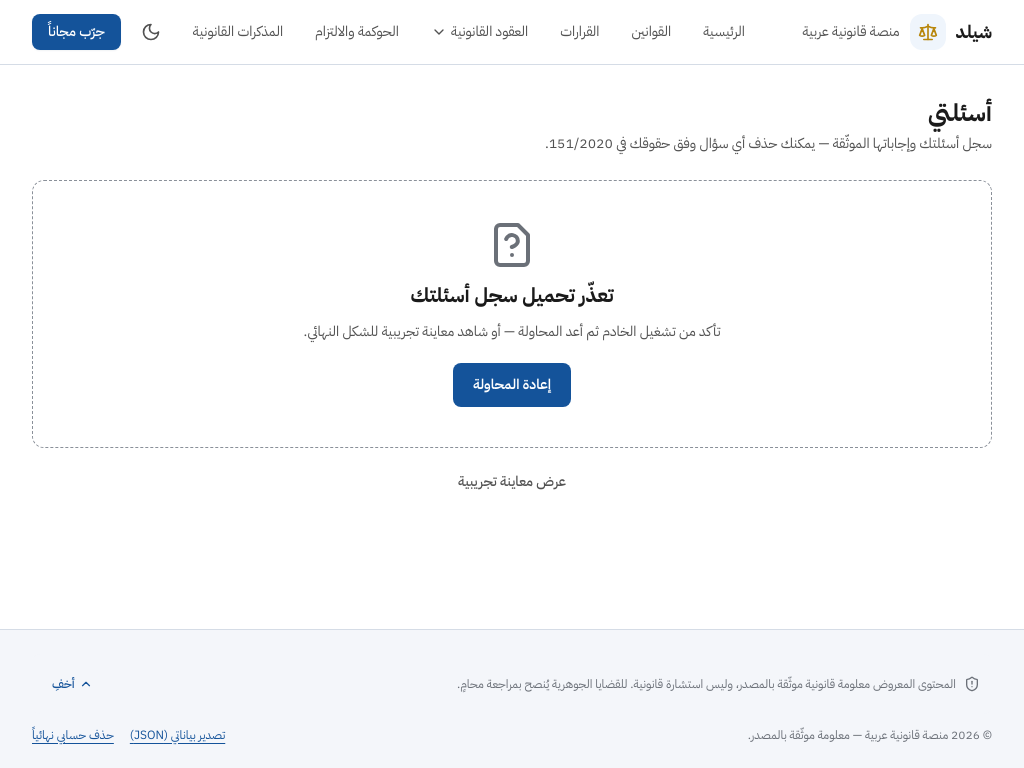
it: MyQuestionsPage › يعرض معاينة تجريبية صريحة عند فشل الاتصال (بانر تحذيري + بيانات تجريبية)
Click the button "عرض معاينة تجريبية" at (512, 482), box x1=442 y1=464 x2=582 y2=500
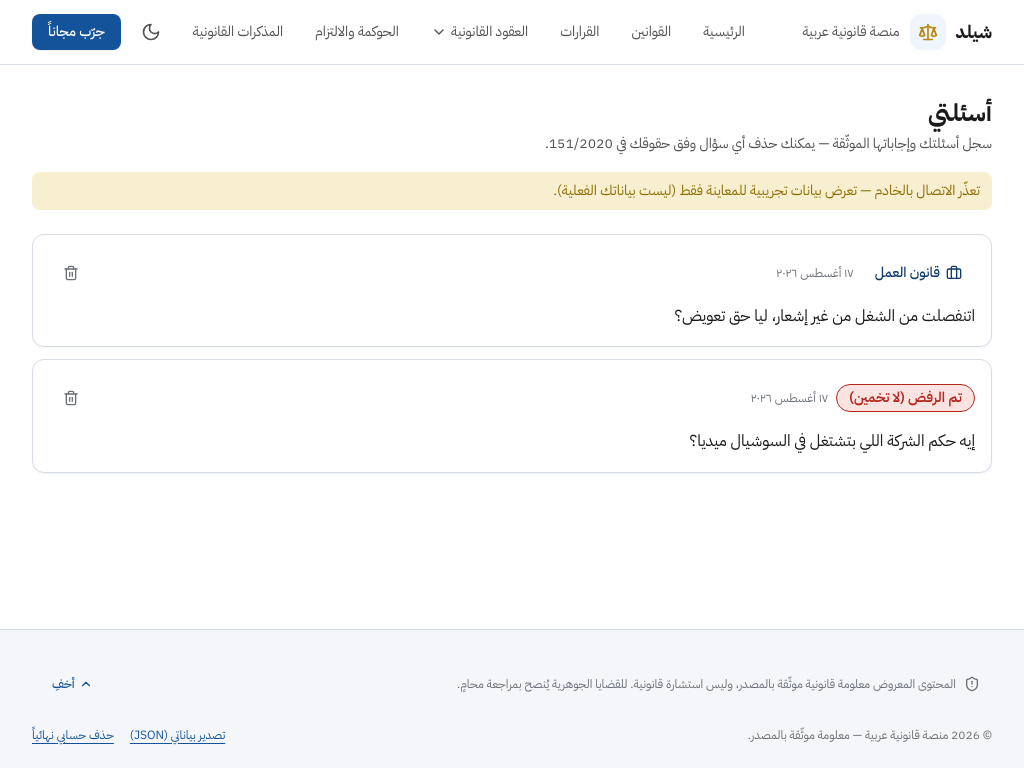
Expected: the text "اتنفصلت من الشغل من غير إشعار، ليا حق تعويض؟" is shown, x1=674 y1=304 x2=975 y2=328
Expected: the text "تعرض بيانات تجريبية للمعاينة فقط" is shown, x1=553 y1=180 x2=980 y2=201
